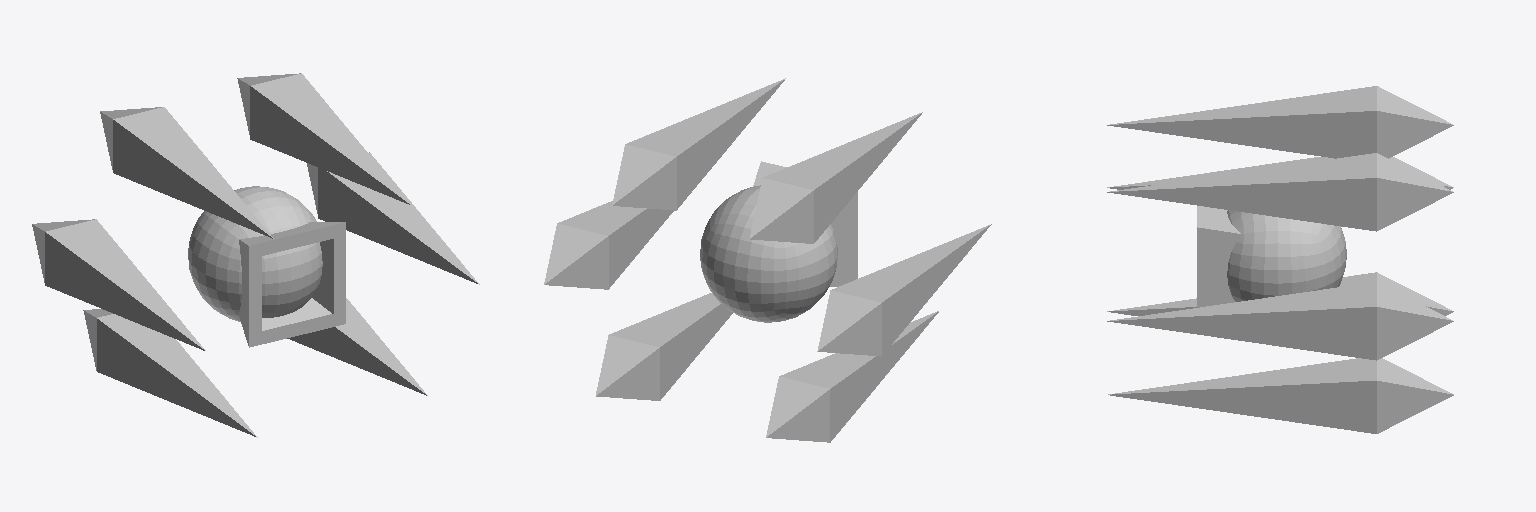
The model's file is Egonens-Tamperse(w).obj.
3 views of the same model, side by side, from view 1: azimuth 30°, elevation 25°; view 2: azimuth 150°, elevation 25°; view 3: azimuth 270°, elevation 25° (orthographic).
Parts seen in each view (by area): view 1: Cube.007_Cube.010; view 2: Cube.007_Cube.010; view 3: Cube.007_Cube.010.
Part boxes in pixels (x1,y1,x2,y2): Cube.007_Cube.010: (32,73,479,437); Cube.007_Cube.010: (544,78,991,442); Cube.007_Cube.010: (1107,86,1453,433).
Bounding box in the file's own units: 2.15 × 1.57 × 2.